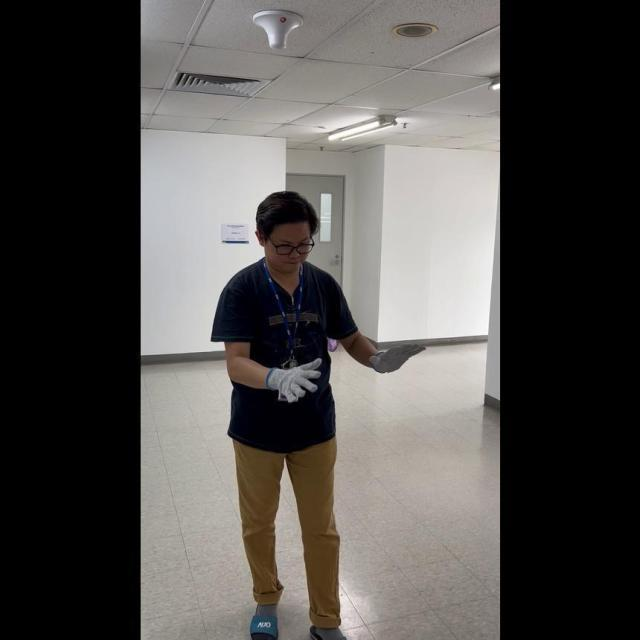gloved_hand: (263, 353, 325, 404), (367, 335, 424, 375)
